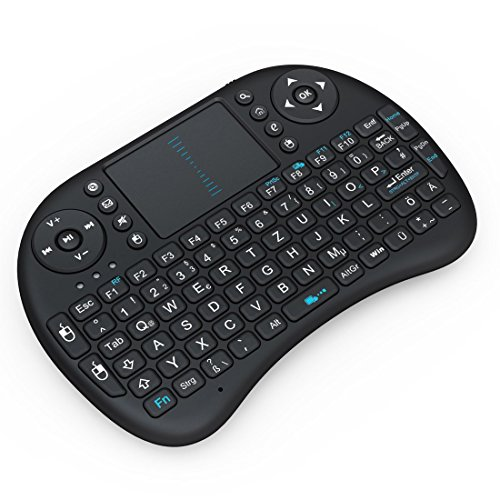Teclado: (41, 104, 465, 417)
